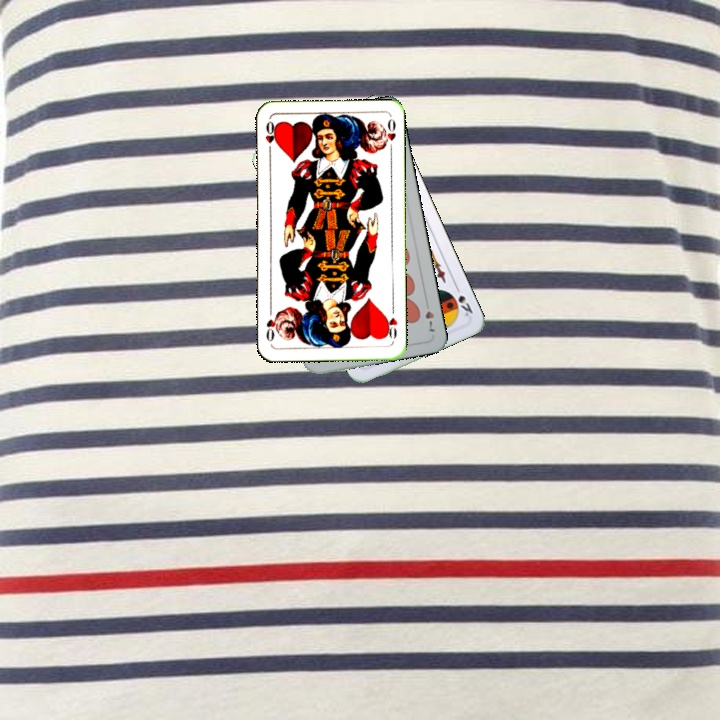H7: (421, 296, 438, 335)
HO: (382, 303, 400, 341), (262, 117, 279, 156)
SK: (451, 281, 475, 319)
